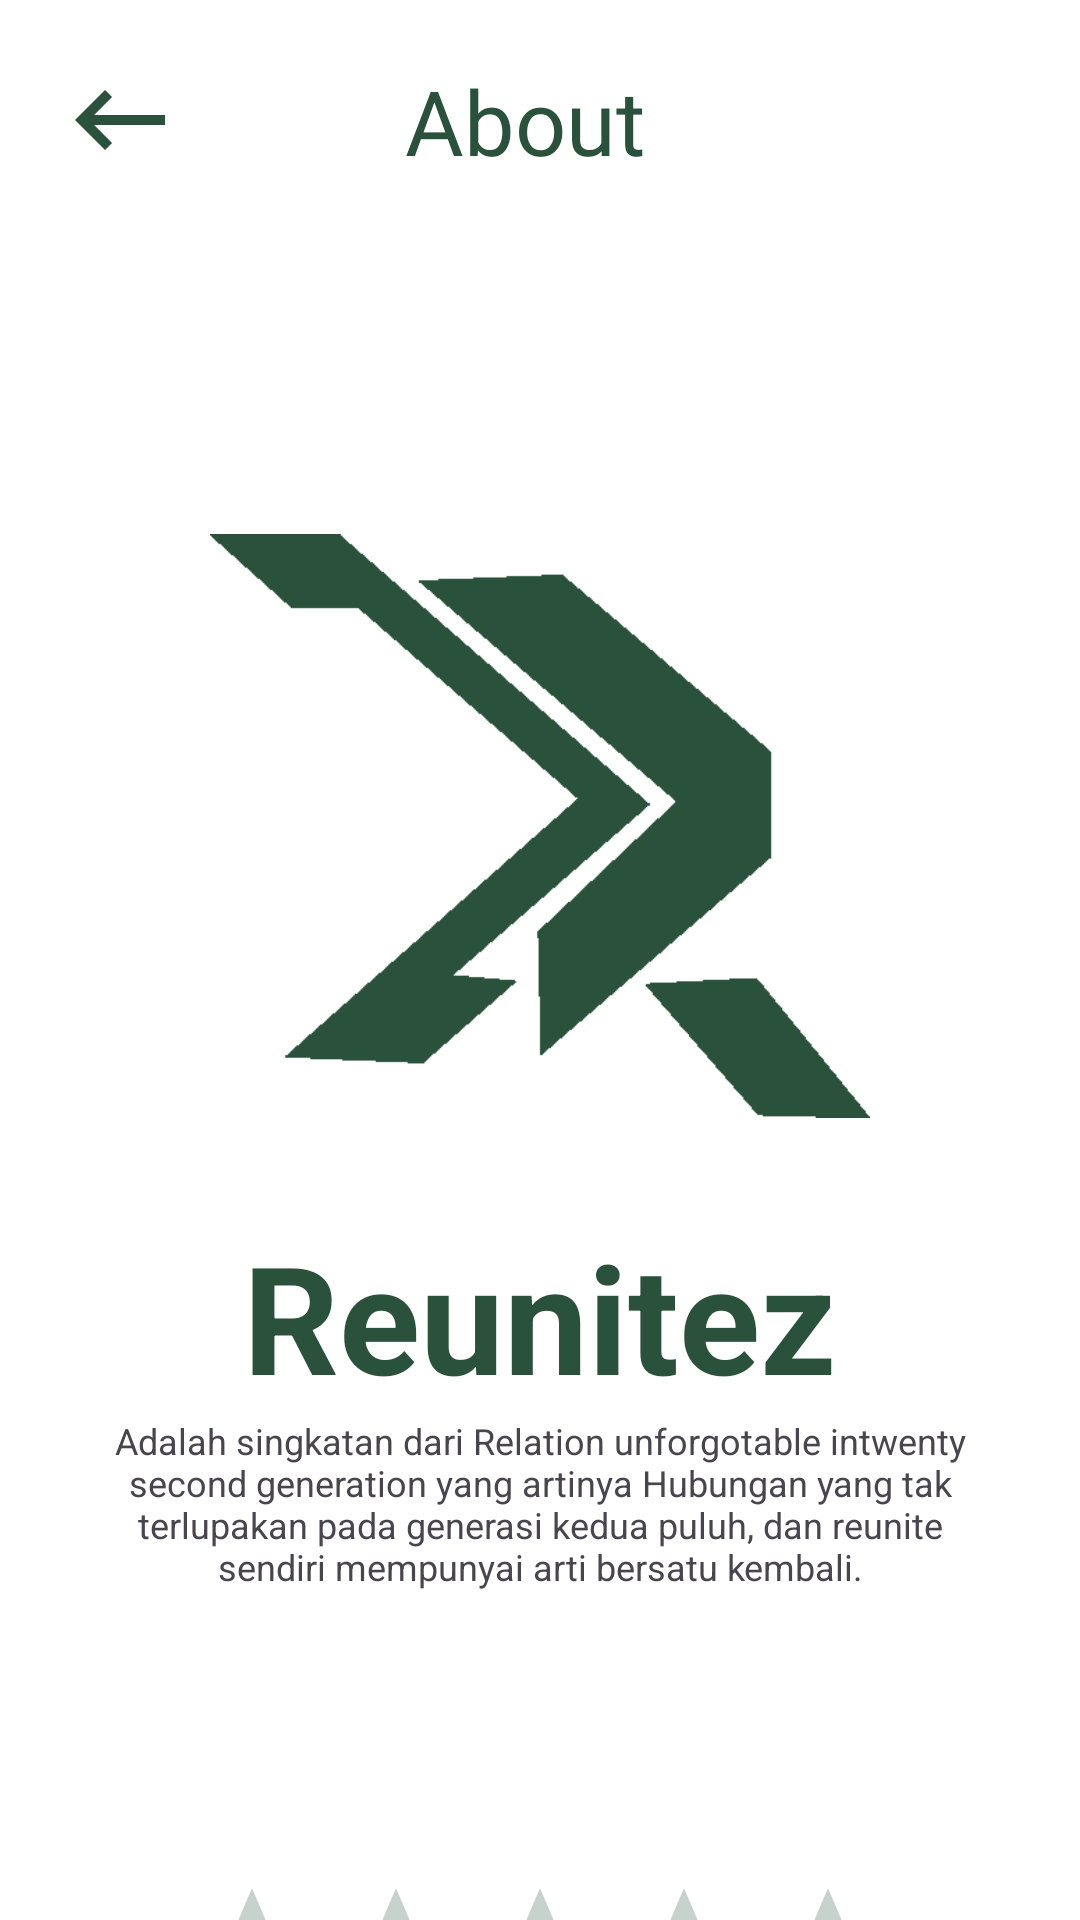

Named icons in this screenshot (1080px×1920px) and their bounding boxes, (x1, y1, x2, y2):
keyboard backspace: (75, 90, 165, 150)
